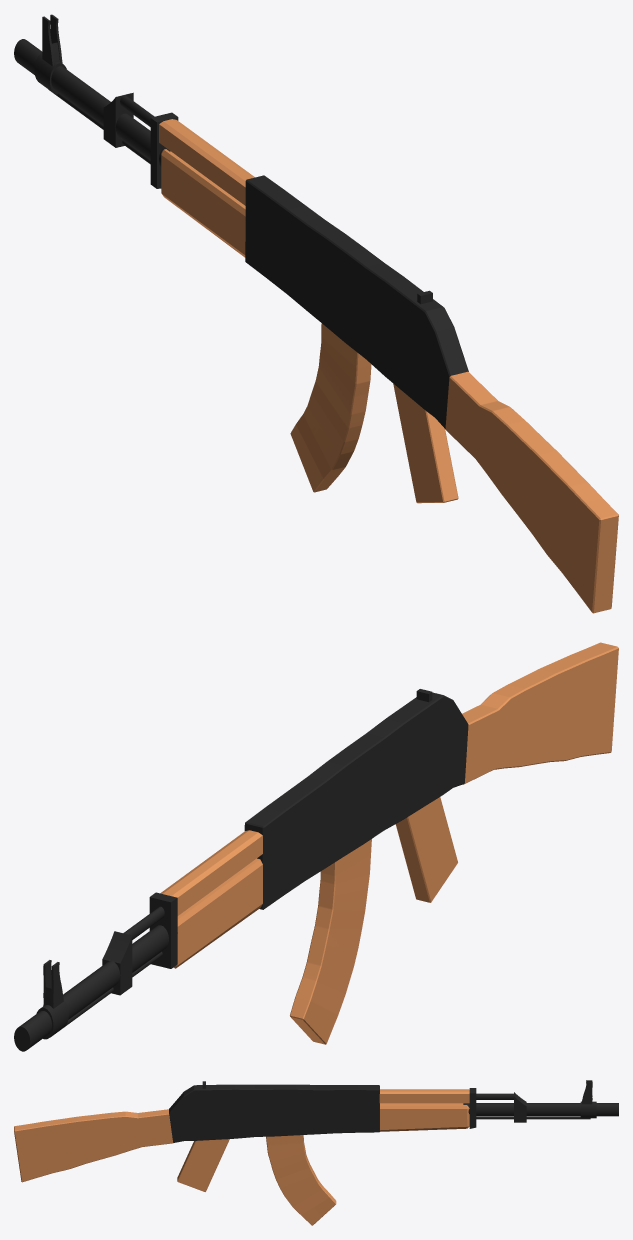
File: Gun.fbx
The picture shows the model from 3 angles, top to bottom: view 1: azimuth 30°, elevation 25°; view 2: azimuth 150°, elevation 25°; view 3: azimuth 270°, elevation 25°; orthographic projection. The views are drawn at different scales.
Parts seen in each view (by area): view 1: pCube2, pCube1, pCube8, pCube3, pCube7, pCylinder1, pCube11, pasted__pCylinder1, pCube5, pCube6; view 2: pCube2, pCube1, pCube8, pCube3, pCube7, pCube11, pCylinder1, pasted__pCylinder1, pCube5, pCube6, pCylinder2; view 3: pCube2, pCube1, pCube8, pCube3, pCube7, pCylinder1, pasted__pCylinder1 (×3), pCube11, pCube6, pCube5, pCylinder2.
Boxes of the visible parts, x1,y1,x2,y2 form: pCube2: [245, 175, 468, 428]; pCube1: [445, 371, 618, 613]; pCube8: [290, 323, 371, 492]; pCube3: [161, 149, 245, 257]; pCube7: [393, 384, 458, 503]; pCylinder1: [15, 40, 170, 166]; pCube11: [159, 119, 254, 205]; pasted__pCylinder1: [14, 39, 168, 163]; pCube5: [150, 112, 178, 188]; pCube6: [103, 92, 133, 147]; pCube2: [244, 692, 468, 909]; pCube1: [462, 642, 618, 784]; pCube8: [290, 839, 371, 1044]; pCube3: [173, 858, 262, 968]; pCube7: [395, 797, 457, 902]; pCube11: [160, 830, 262, 915]; pCylinder1: [21, 925, 168, 1047]; pasted__pCylinder1: [14, 925, 168, 1051]; pCube5: [149, 892, 177, 968]; pCube6: [102, 931, 132, 995]; pCylinder2: [36, 999, 68, 1039]; pCube2: [169, 1084, 379, 1142]; pCube1: [14, 1109, 173, 1182]; pCube8: [266, 1135, 336, 1225]; pCube3: [380, 1103, 469, 1131]; pCube7: [177, 1139, 229, 1191]; pCylinder1: [463, 1103, 617, 1116]; pasted__pCylinder1 (×3): [468, 1093, 618, 1119]; pCube11: [379, 1089, 469, 1103]; pCube6: [514, 1092, 526, 1122]; pCube5: [469, 1088, 476, 1128]; pCylinder2: [580, 1101, 596, 1118].
Size of the model in its own units: 0.1948 by 2.39 by 9.19.
